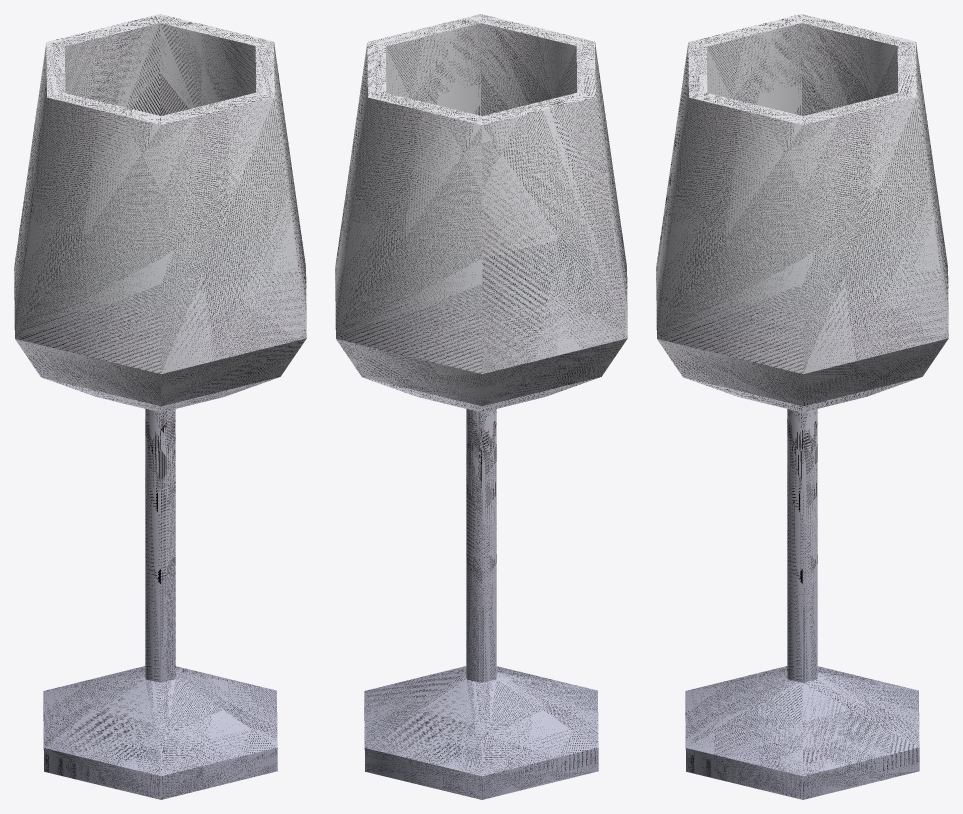
3 renders of one model, left to right at view 1: azimuth 30°, elevation 25°; view 2: azimuth 150°, elevation 25°; view 3: azimuth 270°, elevation 25°, orthographic.
Visible parts, largest first — view 1: glass-wine; view 2: glass-wine; view 3: glass-wine.
Boxes of the visible parts, bbox=[...] form: glass-wine: bbox=[14, 14, 306, 799]; glass-wine: bbox=[335, 14, 627, 799]; glass-wine: bbox=[656, 14, 948, 799].
Bounding box in the file's own units: 0.0951 × 0.2096 × 0.0826.
1 material, 1 textured.
